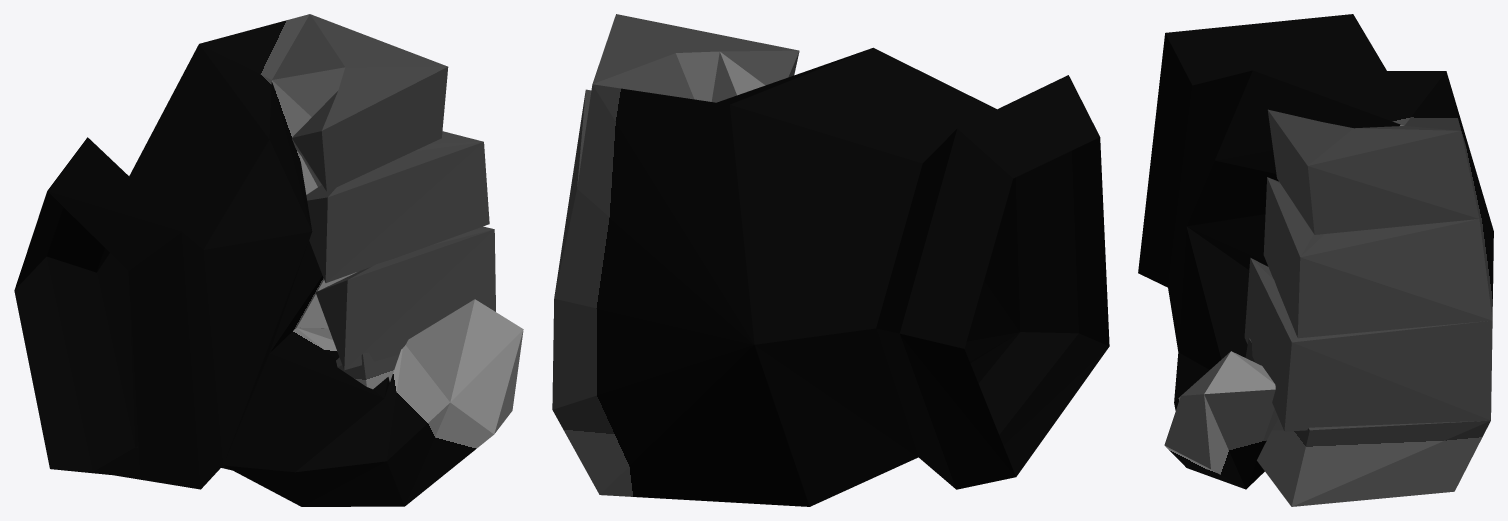
The model's file is ma_hnd3r.obj.
The picture shows the model from 3 angles, left to right: view 1: azimuth 30°, elevation 25°; view 2: azimuth 150°, elevation 25°; view 3: azimuth 270°, elevation 25°; orthographic projection. The views are drawn at different scales.
Parts seen in each view (by area): view 1: m0_2; view 2: m0_2; view 3: m0_2.
Boxes of the visible parts, <box> form: m0_2: <box>14,14,523,506</box>; m0_2: <box>552,14,1109,506</box>; m0_2: <box>1138,14,1493,506</box>.
Size of the model in its own units: 26.35 by 23.39 by 20.16.
